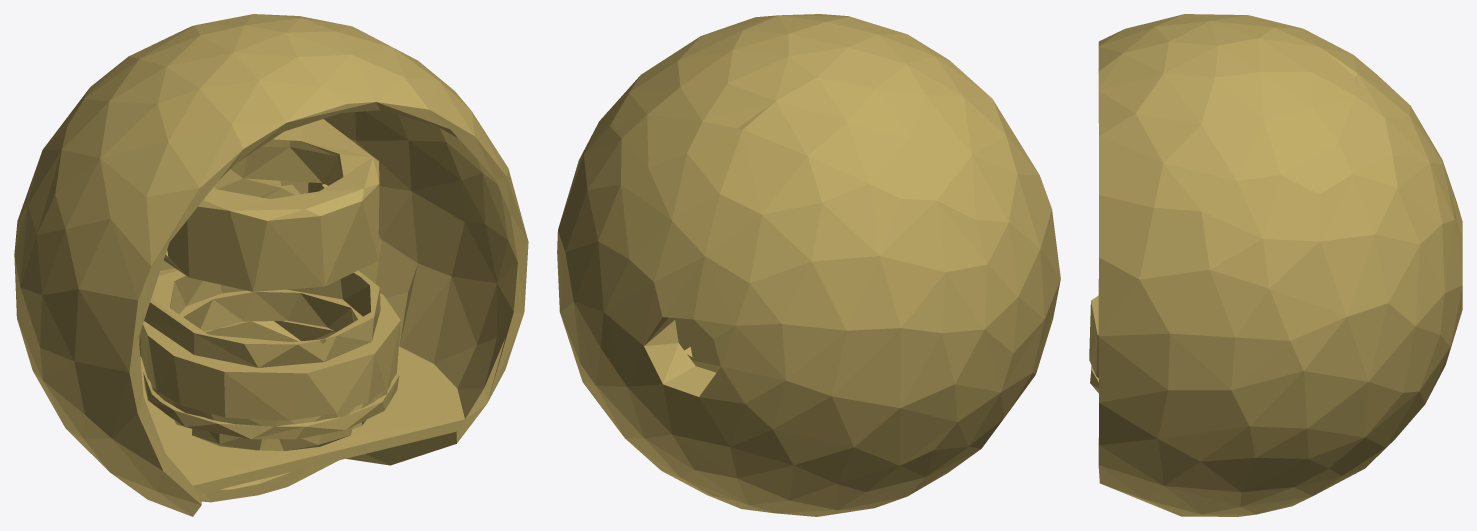
File: eye.dae
3 renders of one model, left to right at view 1: azimuth 30°, elevation 25°; view 2: azimuth 150°, elevation 25°; view 3: azimuth 270°, elevation 25°, orthographic. The views are drawn at different scales.
Parts seen in each view (by area): view 1: M4; view 2: M4; view 3: M4.
Boxes of the visible parts, x1,y1,x2,y2 form: M4: [14, 14, 528, 516]; M4: [557, 14, 1060, 516]; M4: [1089, 14, 1462, 516].
Bounding box in the file's own units: 0.1047 × 0.0778 × 0.1047.
